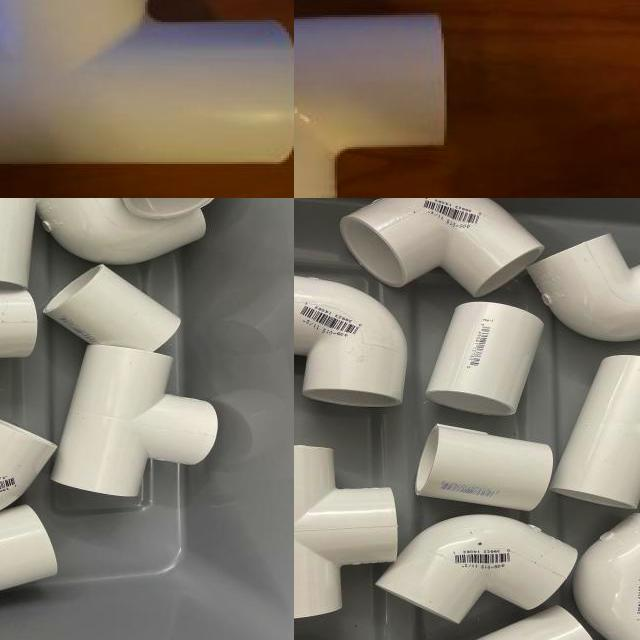L Joint: (294, 14, 448, 198), (374, 514, 578, 625), (342, 198, 548, 300), (294, 273, 408, 412), (540, 234, 640, 342), (579, 513, 640, 640), (0, 418, 56, 513)
T Joint: (57, 344, 218, 497), (294, 445, 398, 622), (549, 355, 640, 512)
